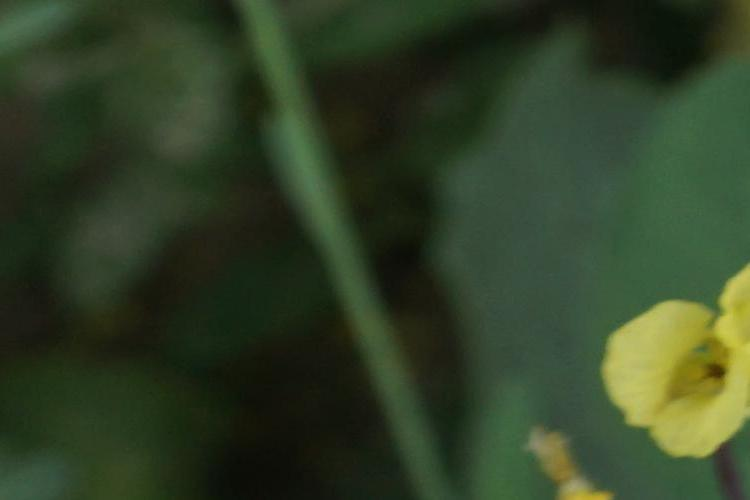yellow: (587, 282, 745, 468)
